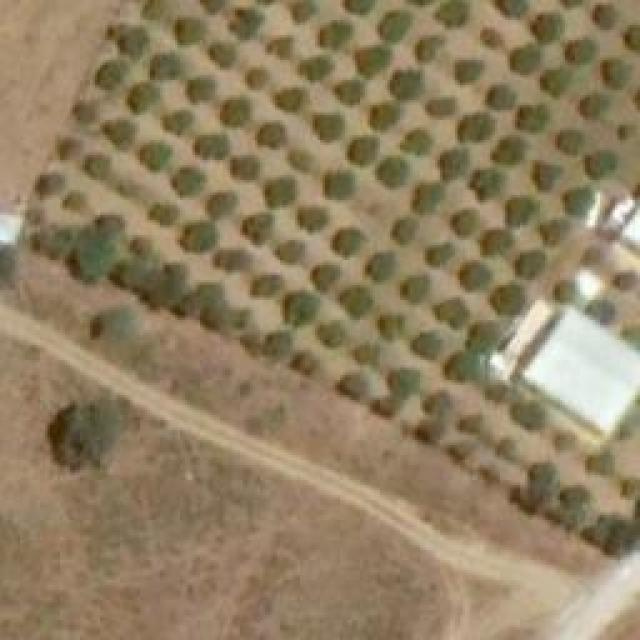Tree: (50, 405, 119, 475), (583, 510, 636, 558), (72, 235, 120, 280), (183, 280, 228, 323), (148, 265, 187, 311), (33, 225, 75, 266), (548, 487, 593, 525), (100, 300, 135, 340), (410, 180, 448, 215), (283, 290, 318, 328), (353, 48, 393, 78), (227, 8, 265, 38), (338, 285, 371, 318), (505, 195, 538, 228), (457, 112, 495, 140), (490, 137, 528, 165), (378, 13, 413, 43), (103, 120, 138, 150), (263, 178, 296, 208), (173, 165, 203, 198), (128, 85, 161, 115), (510, 43, 540, 76), (473, 168, 506, 198), (533, 160, 566, 190), (493, 283, 526, 313), (310, 112, 345, 140), (298, 52, 333, 80), (193, 132, 228, 160), (515, 102, 550, 130), (480, 230, 515, 258), (123, 262, 158, 290), (173, 17, 206, 45), (275, 85, 308, 113), (333, 227, 366, 255), (180, 222, 213, 250), (410, 332, 443, 360), (440, 148, 468, 181), (565, 185, 593, 218), (513, 402, 546, 430), (92, 213, 126, 240), (243, 215, 273, 245), (540, 65, 570, 95), (438, 298, 468, 328), (318, 23, 353, 48), (368, 105, 403, 130), (433, 0, 468, 25), (333, 77, 363, 105), (230, 155, 260, 183), (310, 265, 340, 293), (377, 313, 405, 343), (140, 142, 170, 170), (150, 52, 180, 80), (117, 30, 145, 60), (602, 60, 630, 90), (533, 15, 563, 43), (205, 43, 238, 68), (248, 273, 281, 298), (390, 70, 418, 98), (220, 97, 248, 125), (347, 137, 375, 165), (377, 157, 405, 185), (297, 205, 325, 233), (365, 252, 393, 280), (400, 275, 428, 303), (212, 250, 250, 270), (323, 173, 353, 198), (208, 193, 238, 218), (388, 368, 418, 393), (163, 113, 193, 138), (95, 63, 125, 88), (455, 58, 485, 83), (460, 263, 490, 288), (415, 35, 443, 60), (390, 218, 418, 243), (265, 332, 290, 360), (317, 323, 345, 348), (337, 375, 365, 400), (558, 127, 583, 155), (450, 210, 478, 235), (540, 218, 568, 243), (515, 250, 543, 275), (467, 325, 495, 350), (400, 130, 430, 153), (565, 40, 595, 63), (425, 245, 453, 268), (275, 240, 303, 263), (352, 345, 380, 368), (35, 175, 63, 198), (415, 420, 443, 443), (528, 465, 551, 493), (587, 153, 615, 176), (260, 123, 285, 148), (85, 153, 110, 178), (488, 83, 513, 108), (578, 93, 603, 118), (450, 353, 475, 378), (263, 38, 293, 58), (148, 205, 178, 225), (425, 98, 455, 118), (585, 300, 615, 320), (188, 78, 213, 101), (73, 103, 96, 128), (595, 3, 618, 28), (292, 0, 317, 22), (498, 0, 528, 18), (495, 438, 518, 461), (585, 455, 613, 473), (288, 150, 313, 170), (290, 355, 315, 375), (373, 398, 398, 418), (425, 393, 450, 413), (553, 433, 576, 453), (60, 192, 85, 210), (458, 415, 483, 433), (58, 140, 81, 158), (143, 0, 166, 18), (480, 27, 503, 45), (135, 235, 150, 260), (245, 70, 265, 88), (230, 310, 248, 330), (552, 280, 570, 300), (447, 445, 465, 465), (620, 327, 640, 345), (615, 272, 635, 290), (115, 183, 138, 198), (485, 385, 508, 400), (625, 28, 640, 51), (477, 465, 495, 483)
